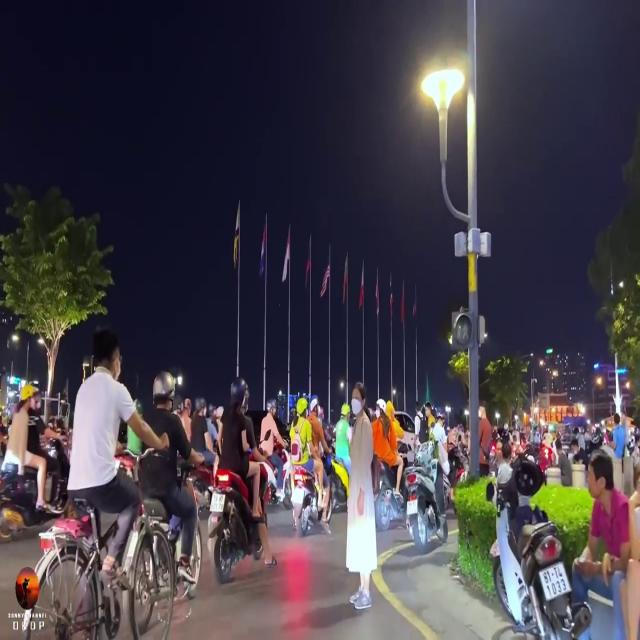bien_trang: (539, 565, 573, 600)
